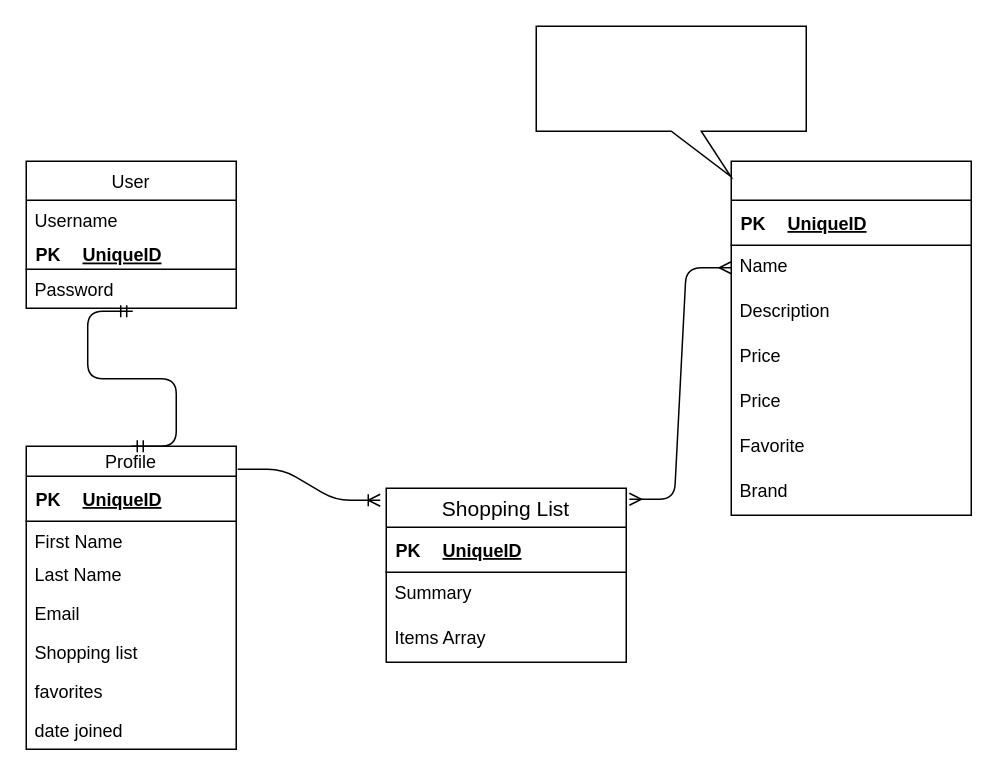
Image size: 998x780. Some labels were removed from this diagram. The box of each missing label's shape, as (x1, y1, x2, y2) in pixels:
Dependant on API Functionality: (535, 25, 806, 176)
Item: (730, 160, 971, 515)
